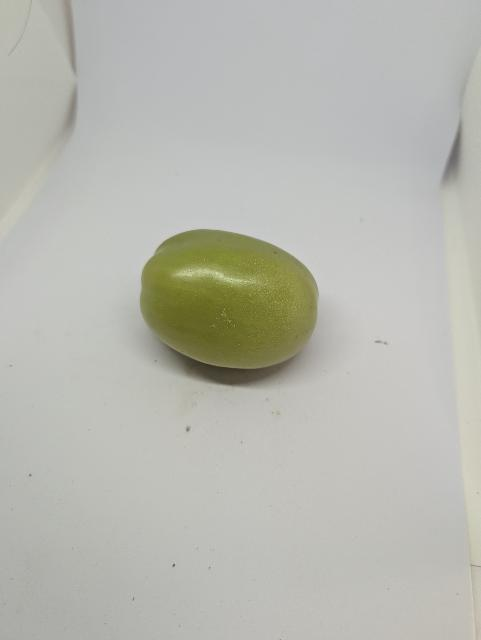green: (138, 226, 321, 372)
